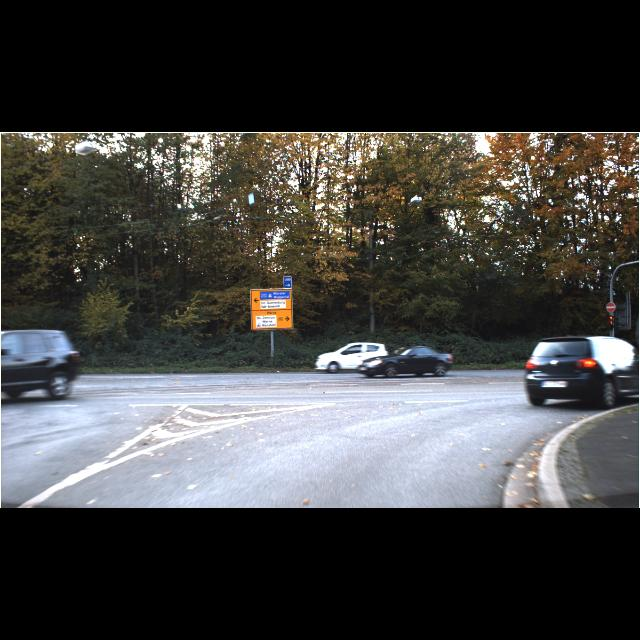other: (606, 302, 616, 312)
